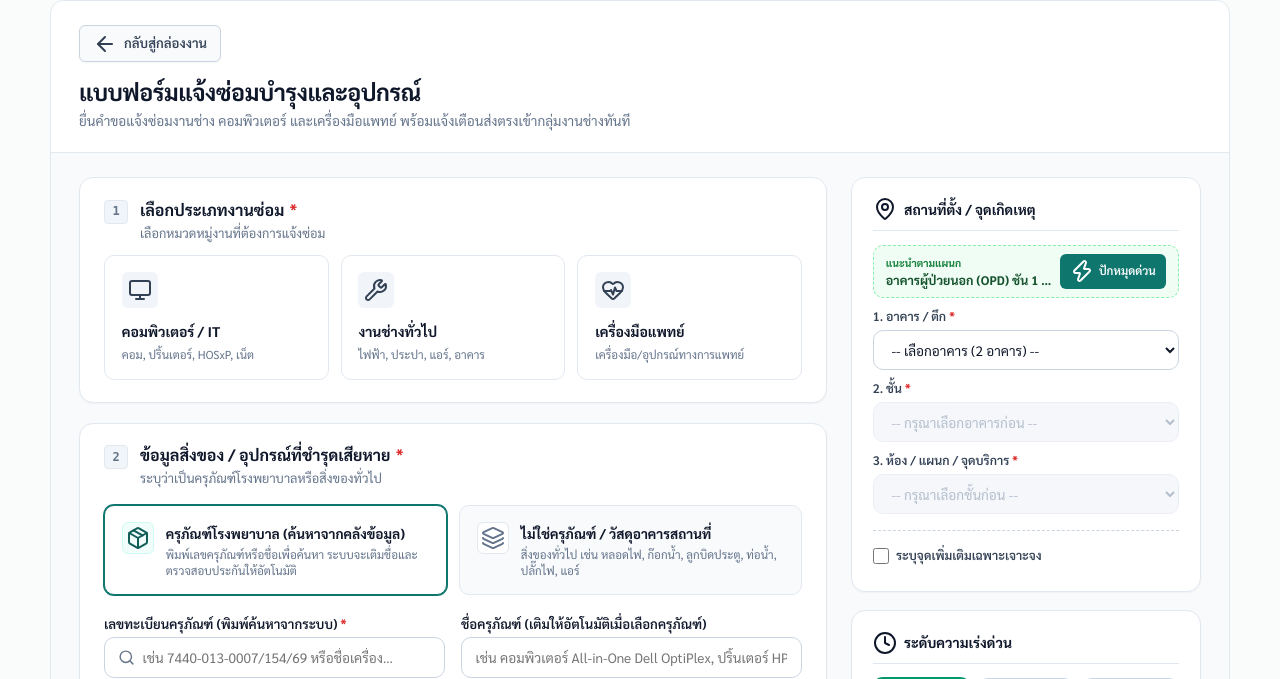
Scenario: RepairFormClient Component (Hallmark Anti-AI-Slop Redesign) › suggests matching department location and allows 1-click quick anchor
expect the text "แนะนำตามแผนก" is shown: met, box x1=886 y1=256 x2=961 y2=269
expect the text "อาคารผู้ป่วยนอก (OPD) ชั้น 1 ห้องตรวจ 1" is shown: met, box x1=886 y1=273 x2=1052 y2=289
# Click quick anchor
Step 1. Click the button "ปักหมุดด่วน" → (1113, 271), box x1=1060 y1=254 x2=1166 y2=289
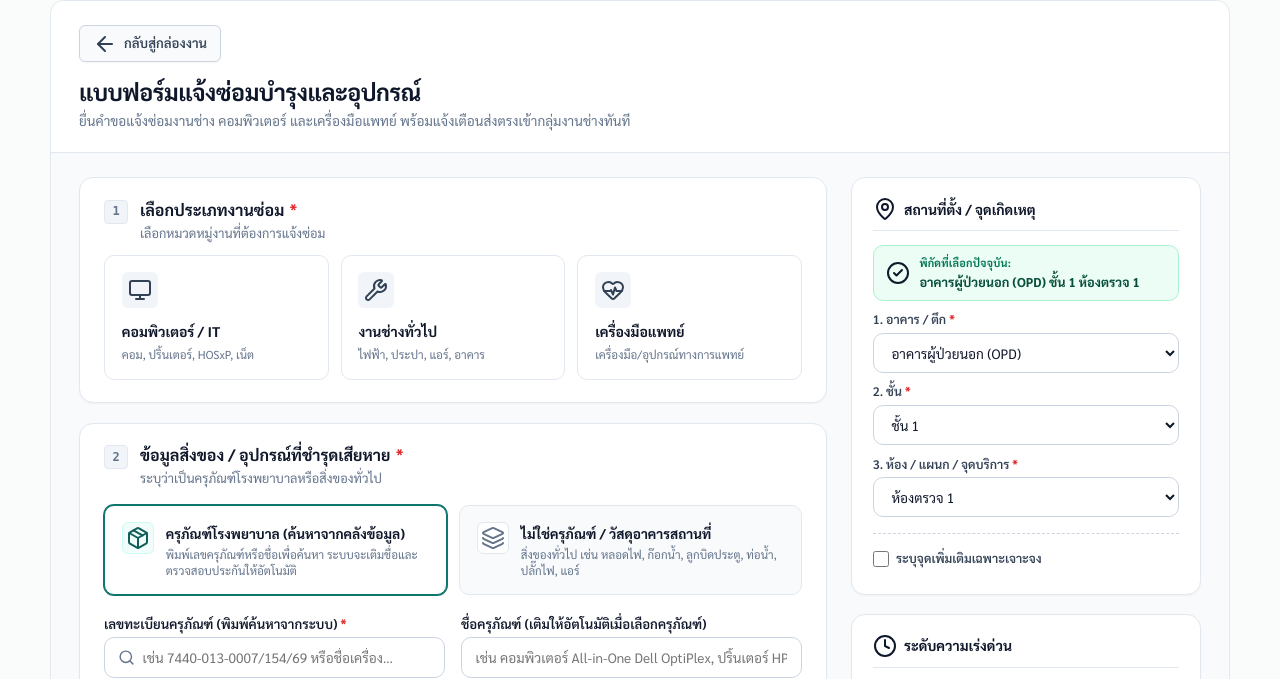
expect the text "พิกัดที่เลือกปัจจุบัน:" is shown: met, box x1=919 y1=255 x2=1011 y2=270
